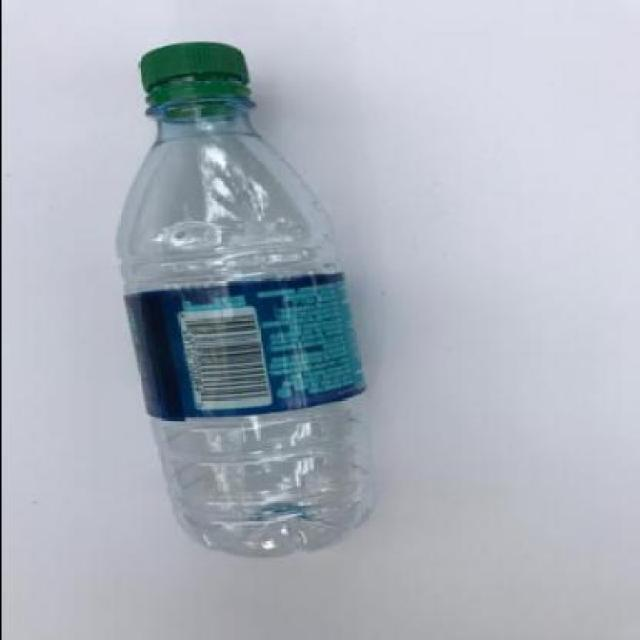PLASTIC: (113, 41, 375, 556), (120, 268, 366, 421), (134, 42, 254, 120)
